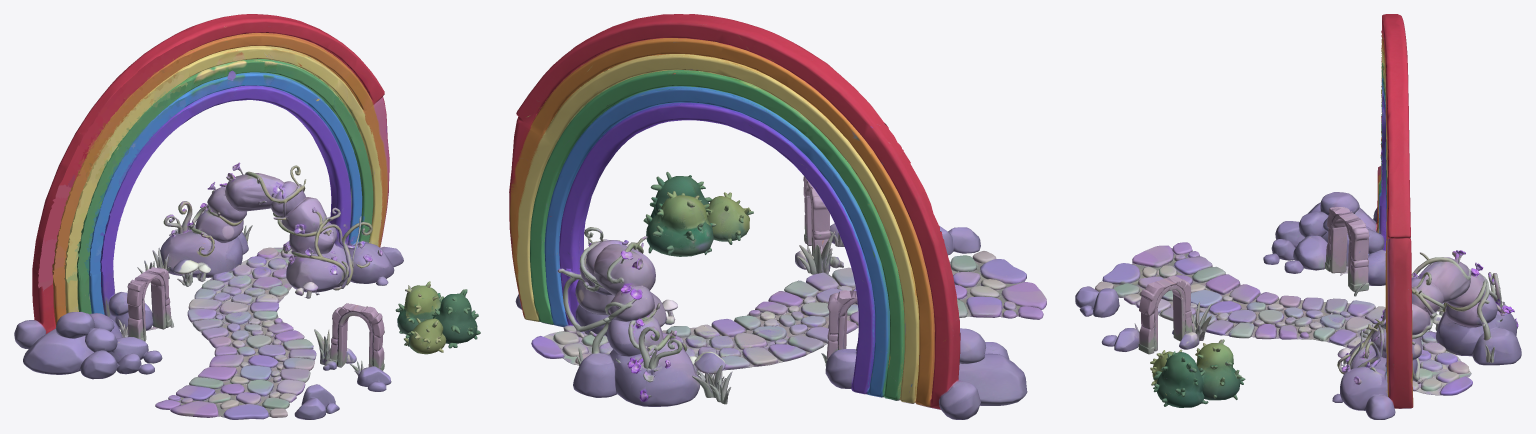
File: unicorns_fixed.glb
The picture shows the model from 3 angles, left to right: view 1: azimuth 30°, elevation 25°; view 2: azimuth 150°, elevation 25°; view 3: azimuth 270°, elevation 25°; orthographic projection. The views are drawn at different scales.
Bounding box in the file's own units: 1.9 × 1.27 × 1.75.
1 material, 1 textured.
